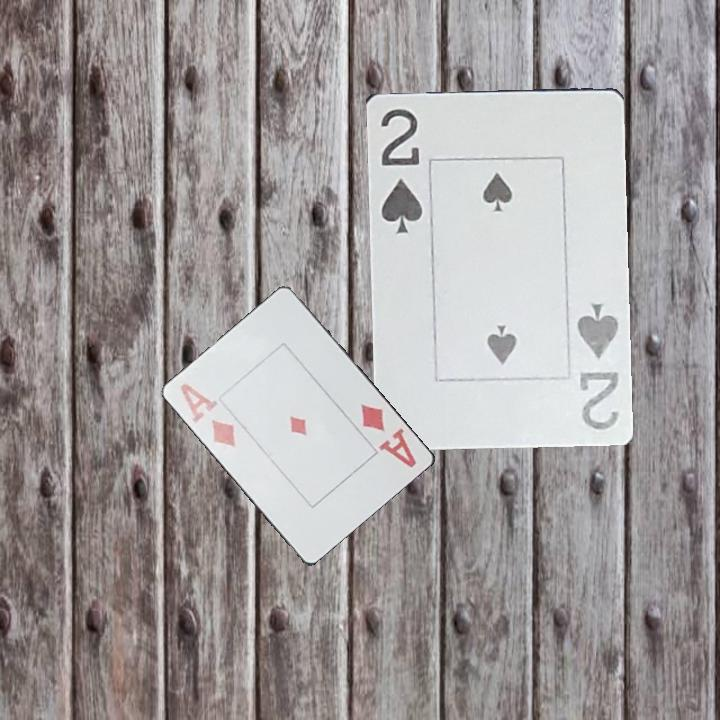2s: (573, 299, 622, 433), (376, 104, 425, 236)
Ad: (356, 400, 420, 471), (177, 380, 239, 450)
